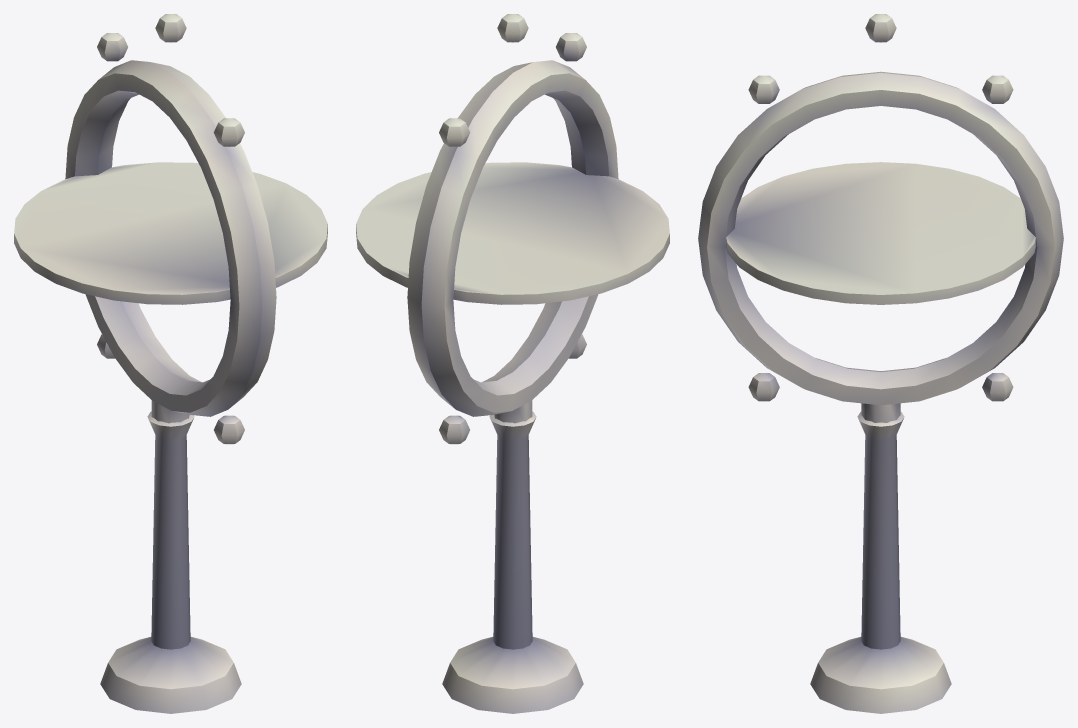
File: mirror-panel.glb
3 renders of one model, left to right at view 1: azimuth 30°, elevation 25°; view 2: azimuth 150°, elevation 25°; view 3: azimuth 270°, elevation 25°, orthographic.
Visible parts, largest first — view 1: body; view 2: body; view 3: body.
Boxes of the visible parts, x1,y1,x2,y2 form: body: [14, 14, 327, 713]; body: [356, 14, 669, 713]; body: [698, 14, 1063, 713].
Bounding box in the file's own units: 0.8 × 1.88 × 0.93.
